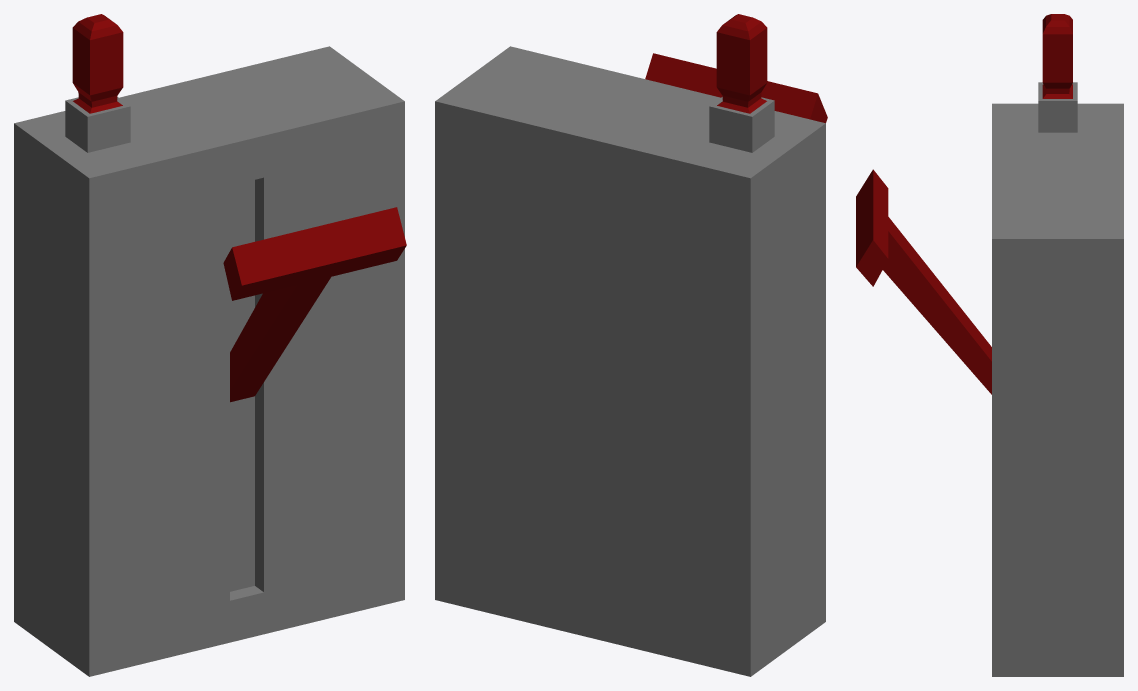
File: switch_off.glb
3 views of the same model, side by side, from view 1: azimuth 30°, elevation 25°; view 2: azimuth 150°, elevation 25°; view 3: azimuth 270°, elevation 25° (orthographic). The views are drawn at different scales.
Visible parts, largest first — view 1: switch_off; view 2: switch_off; view 3: switch_off.
Part boxes in pixels (x1,y1,x2,y2): switch_off: [14, 14, 406, 676]; switch_off: [435, 14, 827, 676]; switch_off: [856, 14, 1123, 676].
Size of the model in its own units: 0.507 by 0.9513 by 0.4243.
Materials: 1 (1 with a texture image).
